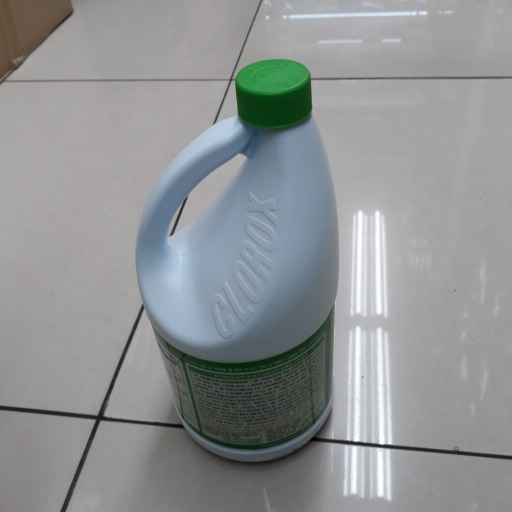Plastic_1: (134, 58, 341, 461)
